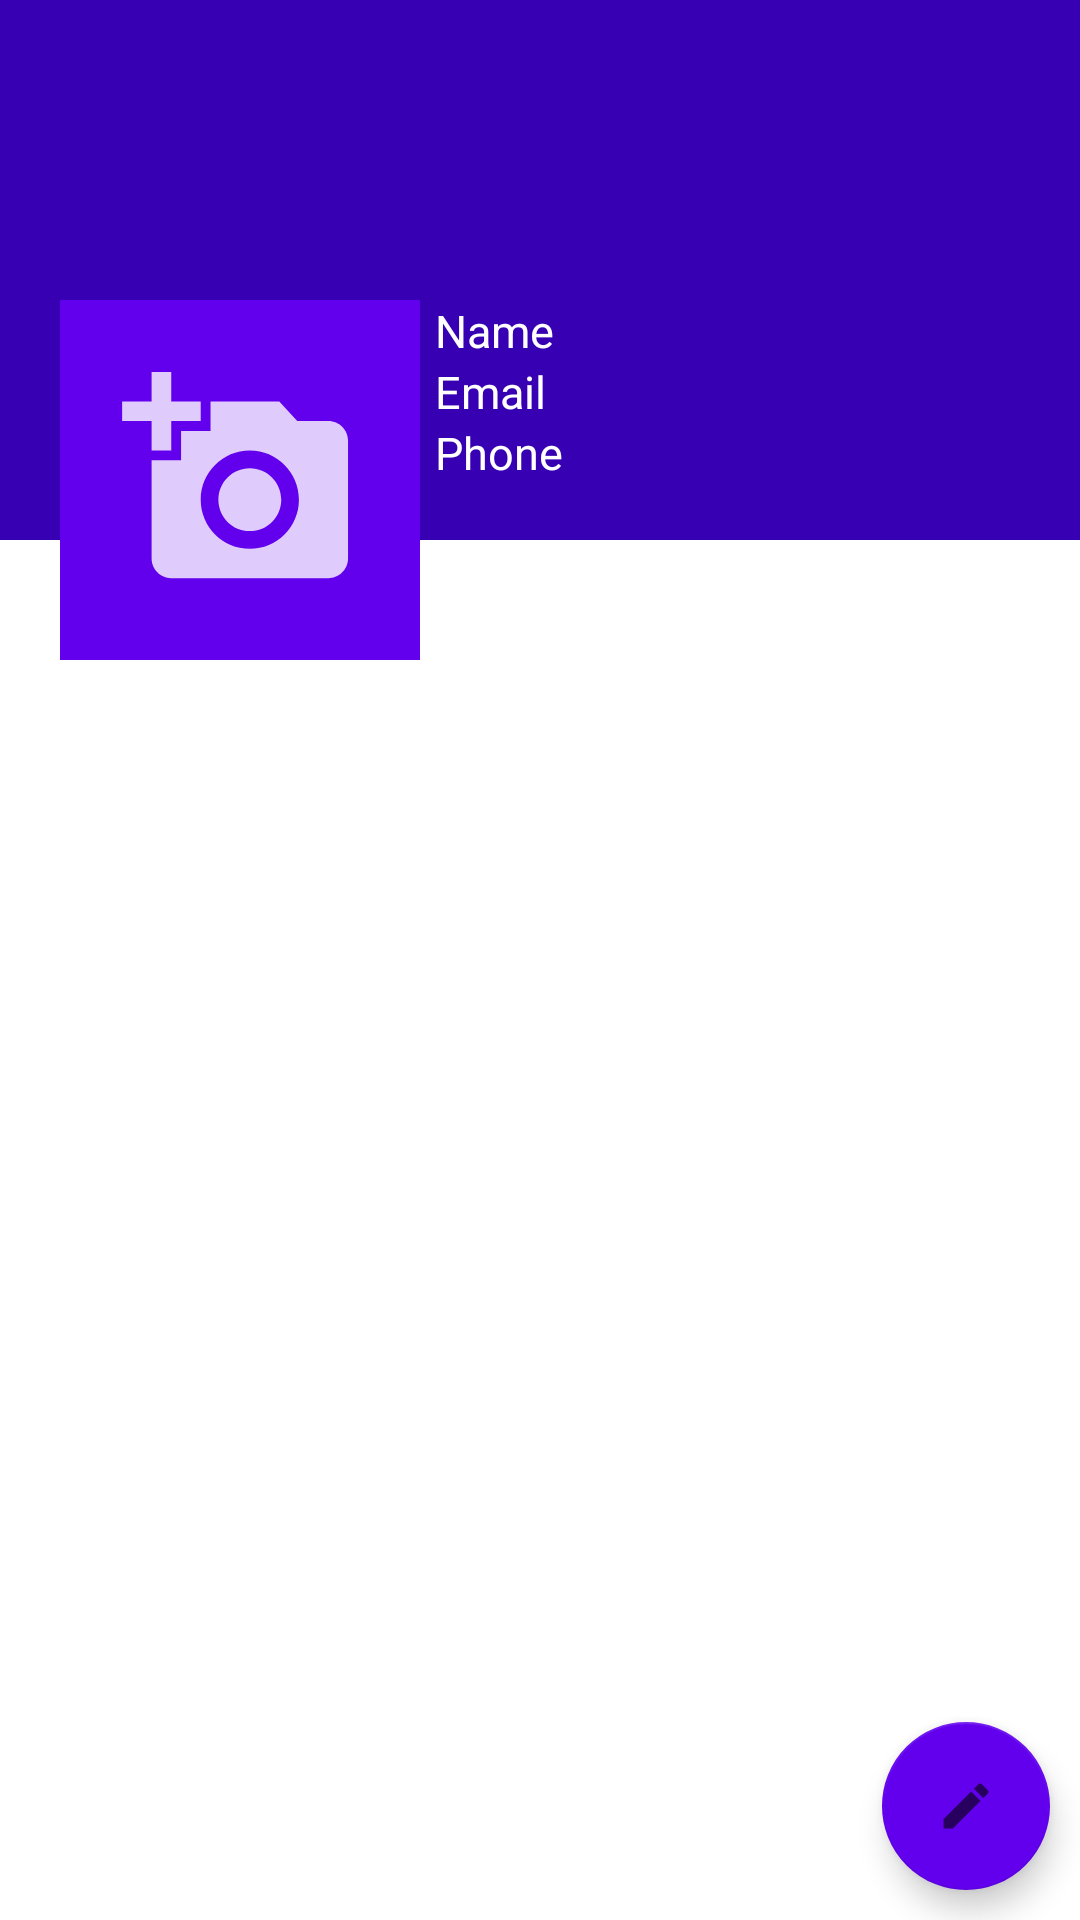

Icons on this 1080×1920 Android screen, each with the point to tap as (x,y):
add: (240,480)
Edit: (966,1806)
